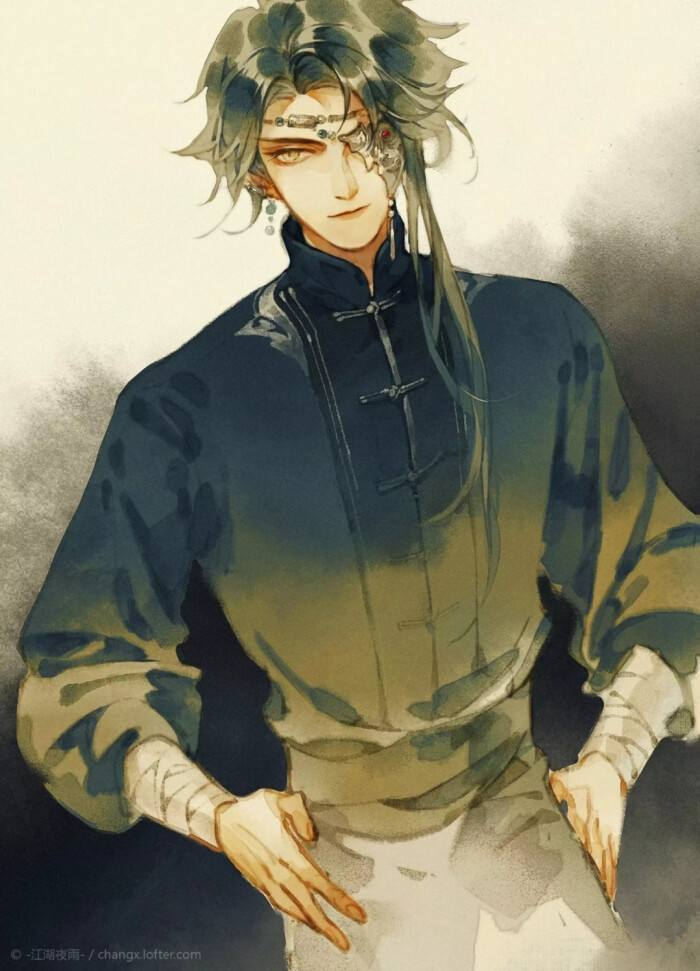person: (165, 17, 700, 842)
